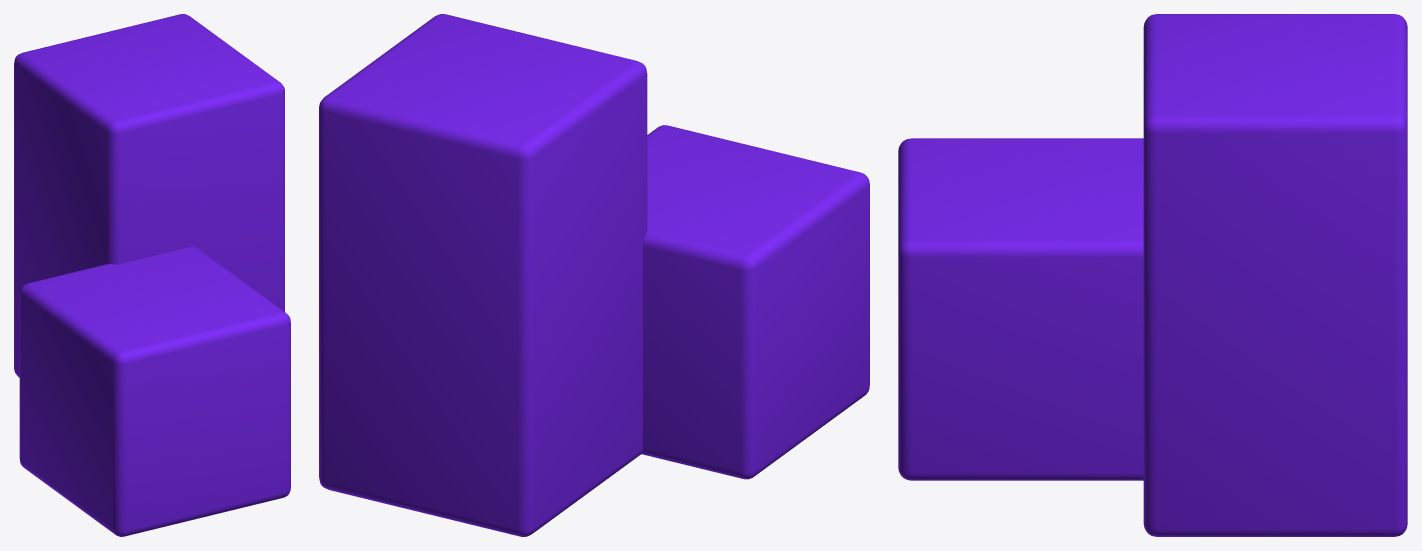
File: Buildings.glb
3 renders of one model, left to right at view 1: azimuth 30°, elevation 25°; view 2: azimuth 150°, elevation 25°; view 3: azimuth 270°, elevation 25°, orthographic. The views are drawn at different scales.
Visible parts, largest first — view 1: Cube.001, Cube.002; view 2: Cube.002, Cube.001; view 3: Cube.002, Cube.001.
Boxes of the visible parts, x1,y1,x2,y2 form: Cube.001: (19,246,290,536); Cube.002: (14,14,284,377); Cube.002: (319,14,647,536); Cube.001: (641,125,869,479); Cube.002: (1143,14,1407,536); Cube.001: (898,138,1143,480).
Size of the model in its own units: 3.01 by 3.51 by 3.86.
1 material, 1 textured.
